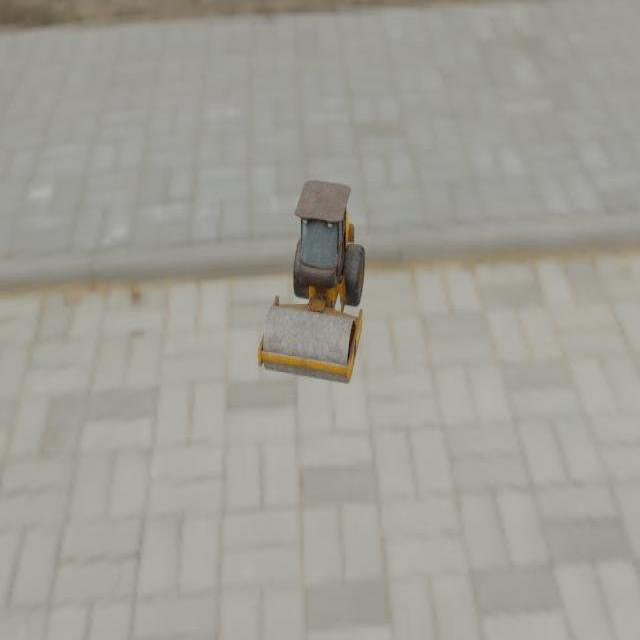Roller: (257, 179, 365, 384)
